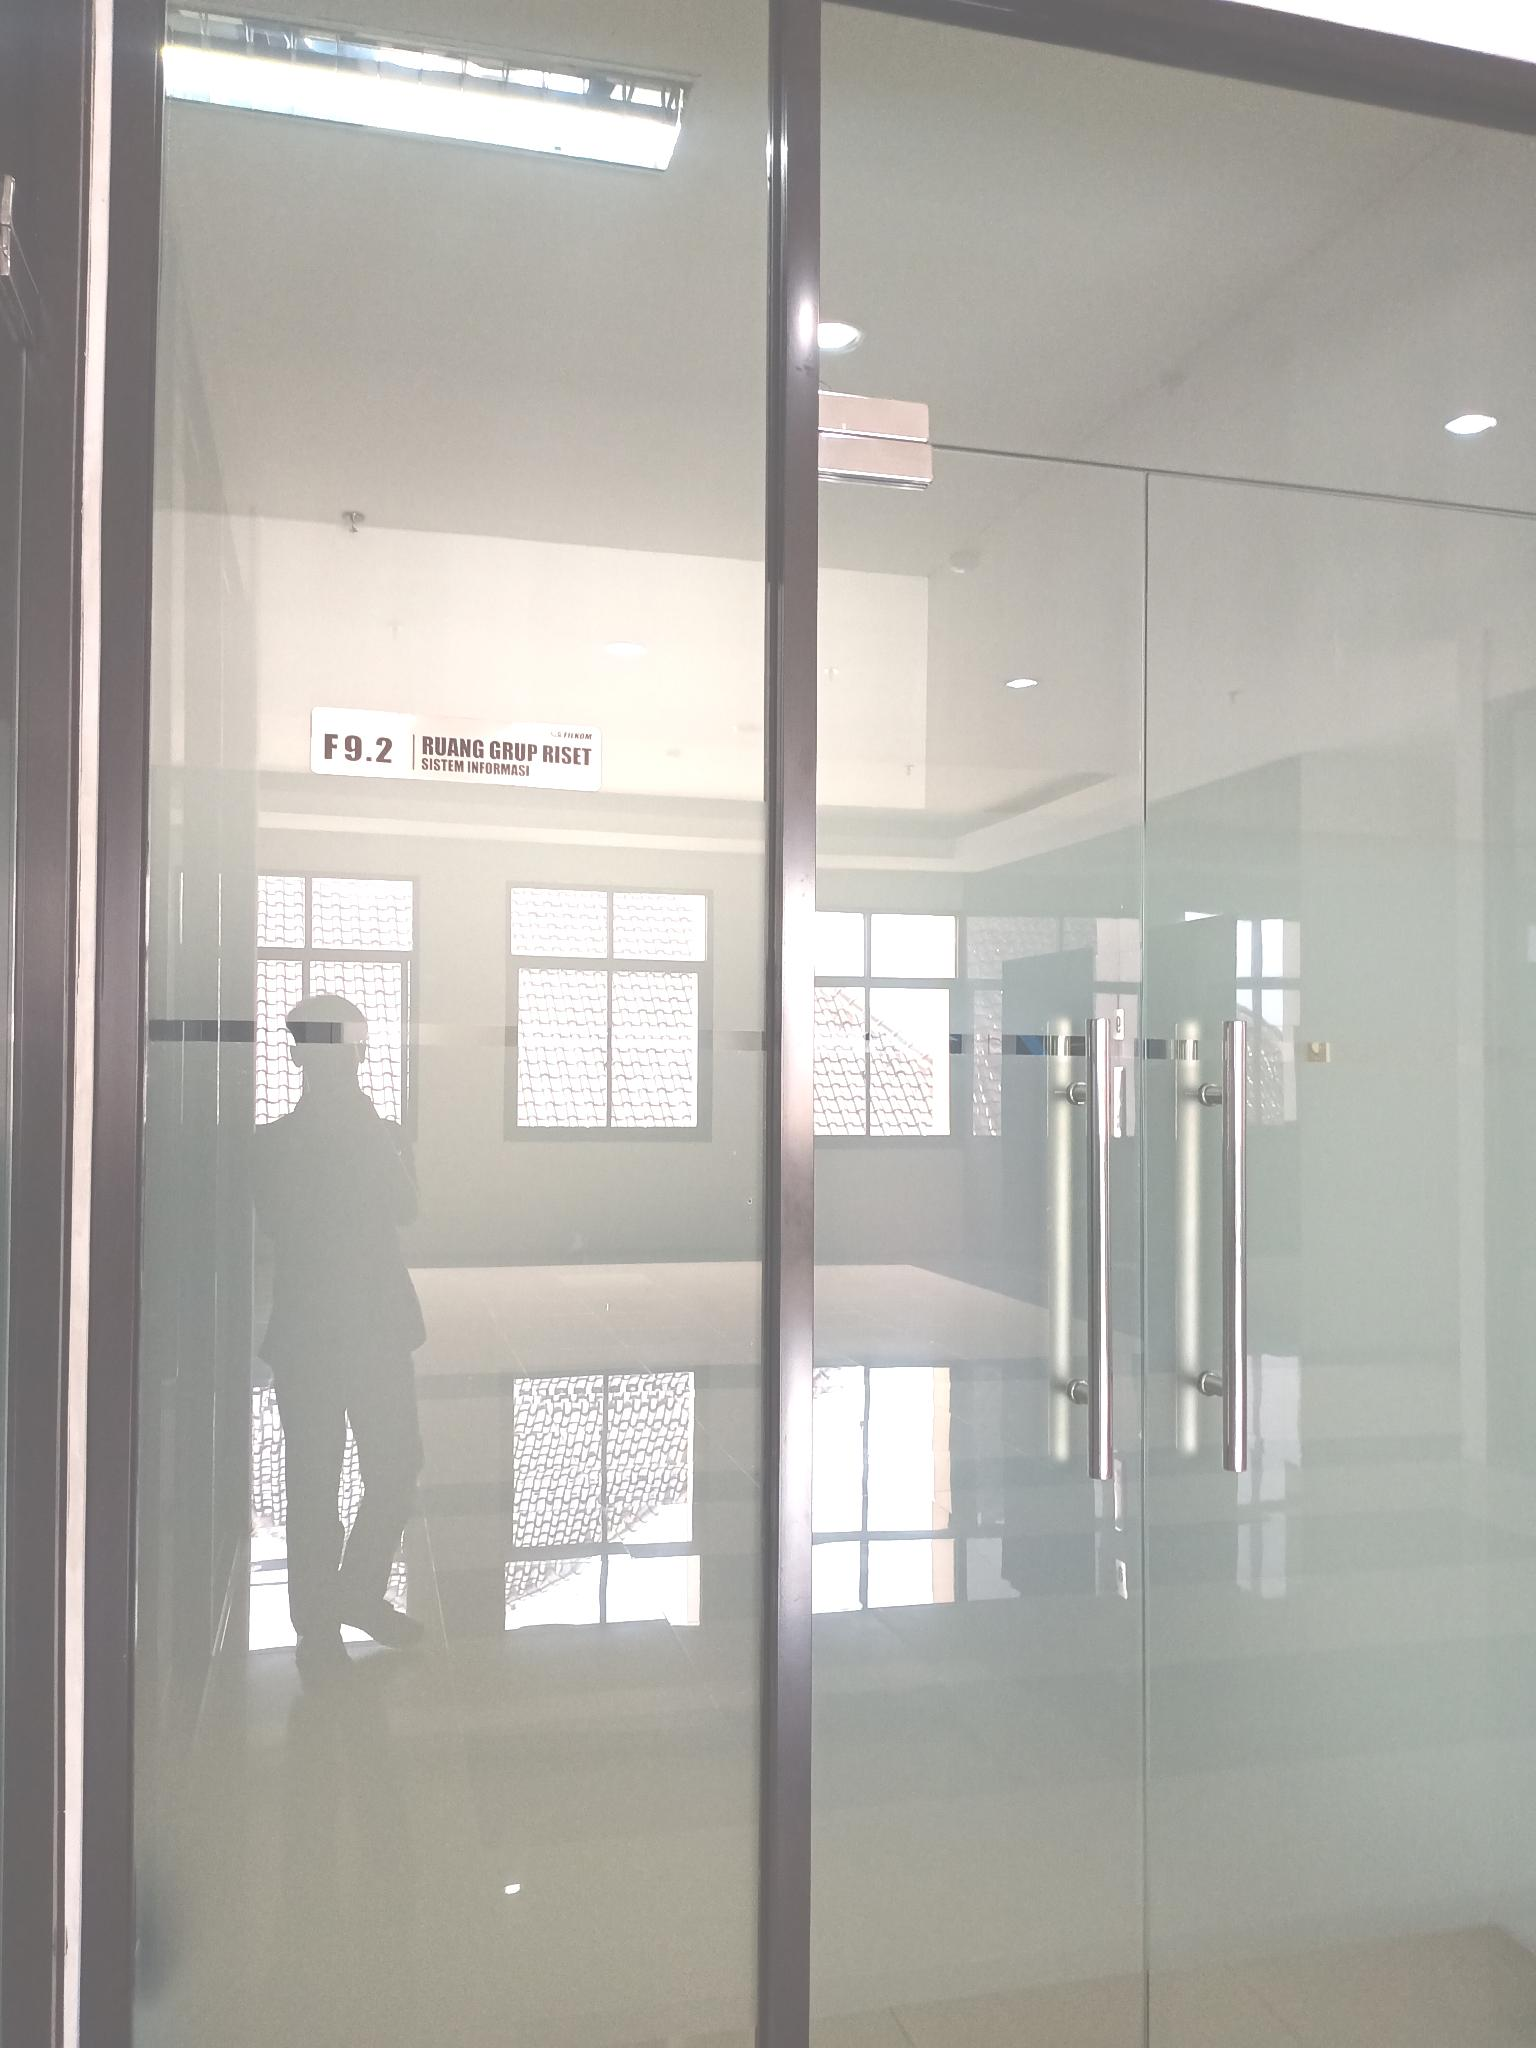plate: (303, 700, 607, 797)
